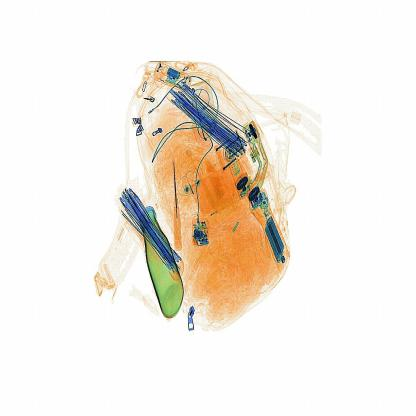wrench: (170, 155, 185, 257)
